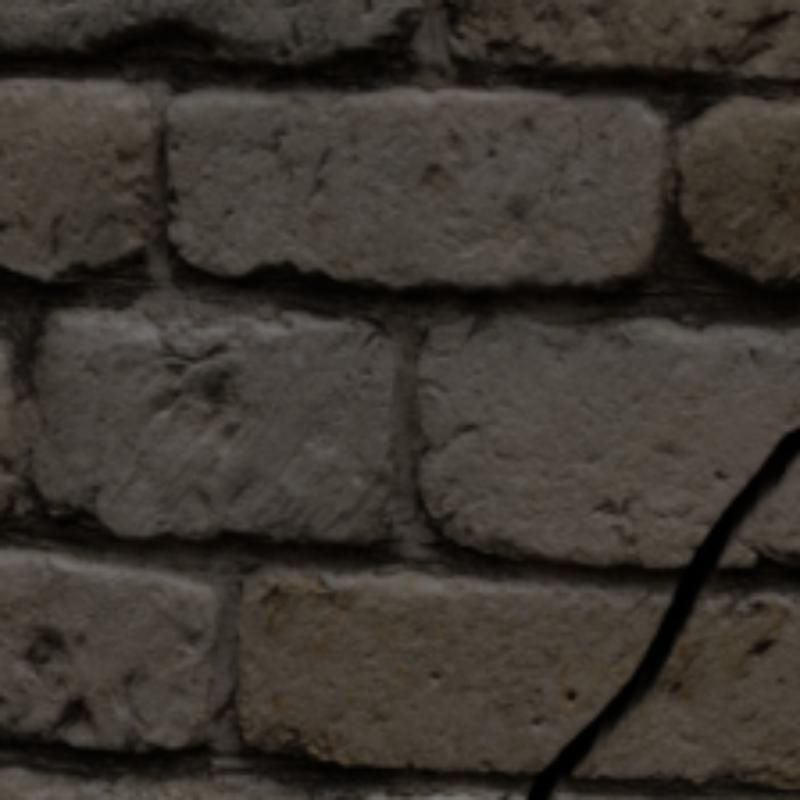pothole: (525, 429, 796, 796)
